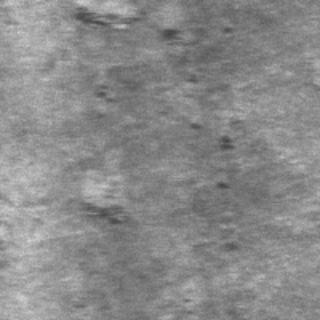rolled pit: (64, 3, 194, 105), (174, 123, 238, 254)
